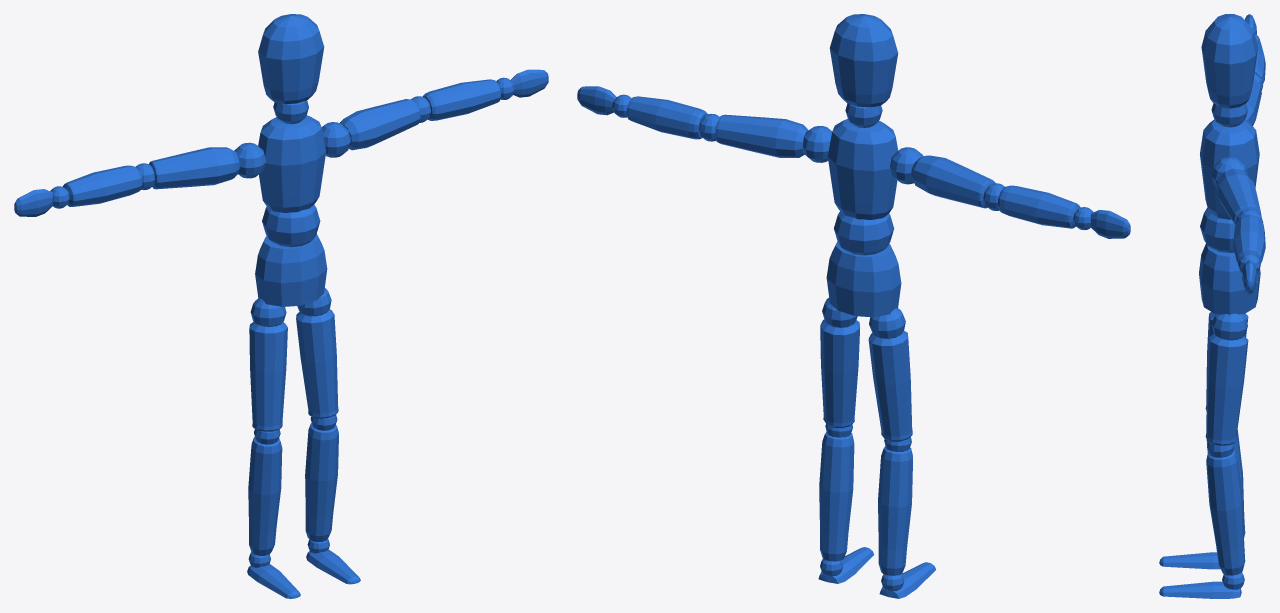
The picture shows the model from 3 angles, left to right: view 1: azimuth 30°, elevation 25°; view 2: azimuth 150°, elevation 25°; view 3: azimuth 270°, elevation 25°; orthographic projection. The views are drawn at different scales.
Visible parts, largest first — view 1: Upper_Body, Head, Pelvis, Right_Thigh, Left_Thigh, Left_Shin, Right_Shin, Right_Upper_Arm, Left_Upper_Arm, Right_Lower_Arm, Left_Lower_Arm, Joint (+7 smaller); view 2: Upper_Body, Head, Pelvis, Left_Shin, Right_Shin, Right_Thigh, Left_Thigh, Left_Upper_Arm, Right_Upper_Arm, Right_Lower_Arm, Left_Lower_Arm, Joint (+7 smaller); view 3: Head, Left_Thigh, Left_Shin, Upper_Body, Pelvis, Left_Upper_Arm, Left_Lower_Arm, Left_Foot, Joint, Right_Foot, Left_Joint_3, Neck (+9 smaller).
Boxes of the visible parts, left/top/right/bottom form: Upper_Body: left=258, top=115, right=326, bottom=212; Head: left=258, top=14, right=324, bottom=104; Pelvis: left=255, top=234, right=327, bottom=306; Right_Thigh: left=249, top=321, right=287, bottom=431; Left_Thigh: left=296, top=309, right=338, bottom=418; Left_Shin: left=305, top=423, right=338, bottom=541; Right_Shin: left=248, top=437, right=282, bottom=555; Right_Upper_Arm: left=149, top=147, right=239, bottom=189; Left_Upper_Arm: left=340, top=99, right=420, bottom=150; Right_Lower_Arm: left=62, top=165, right=142, bottom=206; Left_Lower_Arm: left=423, top=79, right=500, bottom=120; Joint: left=262, top=204, right=320, bottom=247; Upper_Body: left=827, top=119, right=898, bottom=219; Head: left=829, top=14, right=898, bottom=107; Pelvis: left=826, top=241, right=901, bottom=317; Left_Shin: left=819, top=432, right=854, bottom=561; Right_Shin: left=878, top=446, right=912, bottom=575; Right_Thigh: left=868, top=330, right=912, bottom=441; Left_Thigh: left=820, top=319, right=859, bottom=428; Left_Upper_Arm: left=715, top=114, right=808, bottom=157; Right_Upper_Arm: left=911, top=155, right=995, bottom=208; Right_Lower_Arm: left=997, top=185, right=1080, bottom=228; Left_Lower_Arm: left=626, top=96, right=707, bottom=139; Joint: left=834, top=211, right=894, bottom=255; Head: left=1201, top=14, right=1257, bottom=108; Left_Thigh: left=1205, top=334, right=1248, bottom=445; Left_Shin: left=1206, top=451, right=1245, bottom=575; Upper_Body: left=1200, top=119, right=1259, bottom=219; Pelvis: left=1199, top=243, right=1260, bottom=314; Left_Upper_Arm: left=1217, top=168, right=1261, bottom=224; Left_Lower_Arm: left=1233, top=214, right=1265, bottom=263; Left_Foot: left=1159, top=581, right=1241, bottom=598; Joint: left=1200, top=207, right=1235, bottom=252; Right_Foot: left=1159, top=552, right=1220, bottom=569; Left_Joint_3: left=1211, top=313, right=1247, bottom=340; Neck: left=1211, top=103, right=1247, bottom=127.
Bounding box in the file's own units: 393 × 387 × 66.68.
